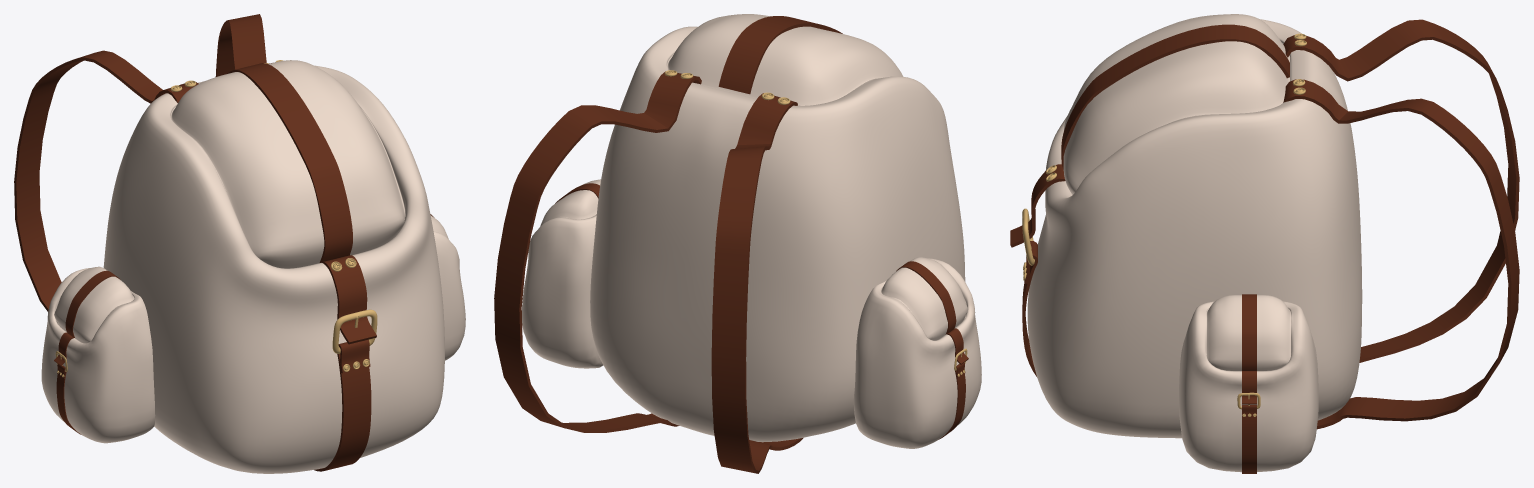
File: bag-transformed.glb
3 views of the same model, side by side, from view 1: azimuth 30°, elevation 25°; view 2: azimuth 150°, elevation 25°; view 3: azimuth 270°, elevation 25° (orthographic). The views are drawn at different scales.
Visible parts, largest first — view 1: bag, strap, metal; view 2: bag, strap; view 3: bag, strap, metal.
Part boxes in pixels (left/top/right/bottom): bag: left=41, top=60, right=465, bottom=473; strap: left=14, top=14, right=434, bottom=471; metal: left=55, top=60, right=377, bottom=377; bag: left=521, top=14, right=981, bottom=448; strap: left=494, top=16, right=968, bottom=473; bag: left=1027, top=14, right=1362, bottom=472; strap: left=1010, top=19, right=1519, bottom=473; metal: left=1022, top=33, right=1306, bottom=416.
Size of what is drawn, in the model's own units: 73.1 by 62.09 by 76.9.
